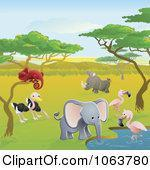bird: (116, 109, 148, 141), (12, 91, 42, 122), (107, 88, 133, 116), (25, 97, 50, 121)
